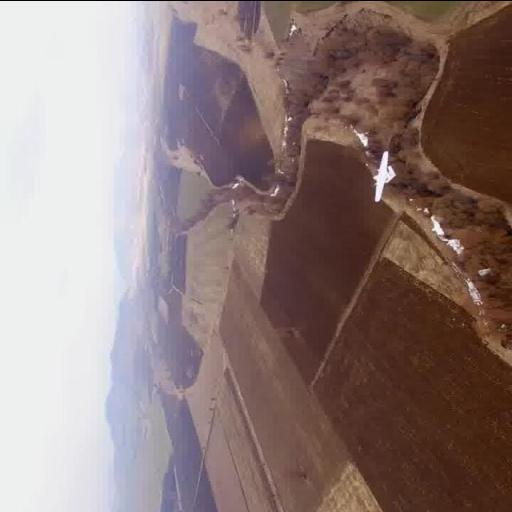uav: (365, 146, 401, 206)
